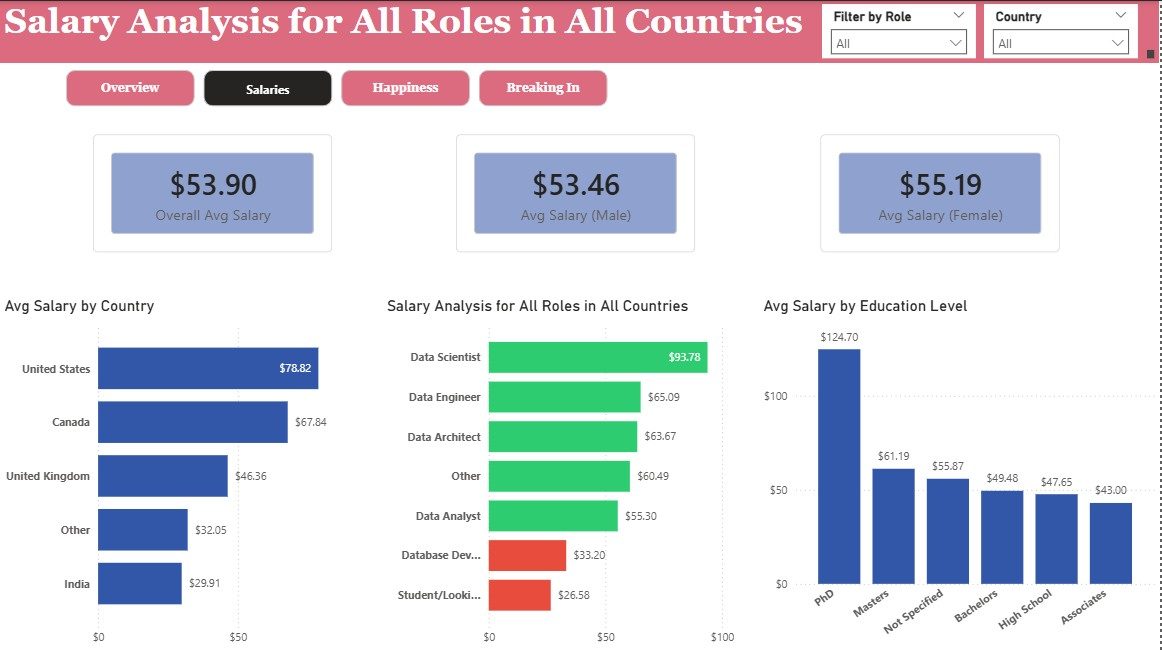

This screenshot's page, from the dashboard's own definition file:
{"tool":"powerbi","page":{"name":"Salaries","canvas":[1280,720],"ordinal":1},"visuals":[{"type":"textbox","box":[0,0,1279.4,68],"z":0},{"type":"slicer","fields":{"Values":["Data Professional Survey.Country"]},"box":[1086.9,3.8,170,60],"z":1000},{"type":"slicer","fields":{"Values":["Data Professional Survey.Job Title"]},"box":[907.7,3.8,170,60],"z":2000},{"type":"pageNavigator","box":[72.3,75.4,600,40],"z":3000},{"type":"cardVisual","fields":{"Data":["_Measures (2).Avg Salary"]},"box":[102,148,264,130],"z":4000},{"type":"cardVisual","fields":{"Data":["_Measures (2).Avg Salary - Male"]},"box":[504,148,264,130],"z":5000},{"type":"cardVisual","fields":{"Data":["_Measures (2).Avg Salary - Female"]},"box":[906,148,264,130],"z":6000},{"type":"clusteredBarChart","fields":{"Category":["Data Professional Survey.Job Title"],"Y":["_Measures (2).Avg Salary"]},"box":[422,326,416,394],"z":7000},{"type":"clusteredBarChart","fields":{"Y":["_Measures (2).Avg Salary"],"Category":["Data Professional Survey.Country"]},"box":[0,326,404,394],"z":8000},{"type":"clusteredColumnChart","title":"Avg Salary by Education Level","fields":{"Category":["Data Professional Survey.Education"],"Y":["_Measures (2).Avg Salary"]},"box":[838,326,442,394],"z":9000}]}

Visuals, with their boxes in screenshot pixels (x1, y1, x2, y2), scaled from the page's 1280x720 canvas onto the 1162x652 screenshot:
textbox: box=[0, 0, 1161, 62]
slicer - Data Professional Survey.Country: box=[987, 3, 1141, 58]
slicer - Data Professional Survey.Job Title: box=[824, 3, 978, 58]
pageNavigator: box=[66, 68, 610, 105]
cardVisual - _Measures (2).Avg Salary: box=[93, 134, 332, 252]
cardVisual - _Measures (2).Avg Salary - Male: box=[458, 134, 697, 252]
cardVisual - _Measures (2).Avg Salary - Female: box=[822, 134, 1062, 252]
clusteredBarChart - Data Professional Survey.Job Title x _Measures (2).Avg Salary: box=[383, 295, 761, 651]
clusteredBarChart - _Measures (2).Avg Salary x Data Professional Survey.Country: box=[0, 295, 367, 651]
"Avg Salary by Education Level" clusteredColumnChart: box=[761, 295, 1161, 651]
